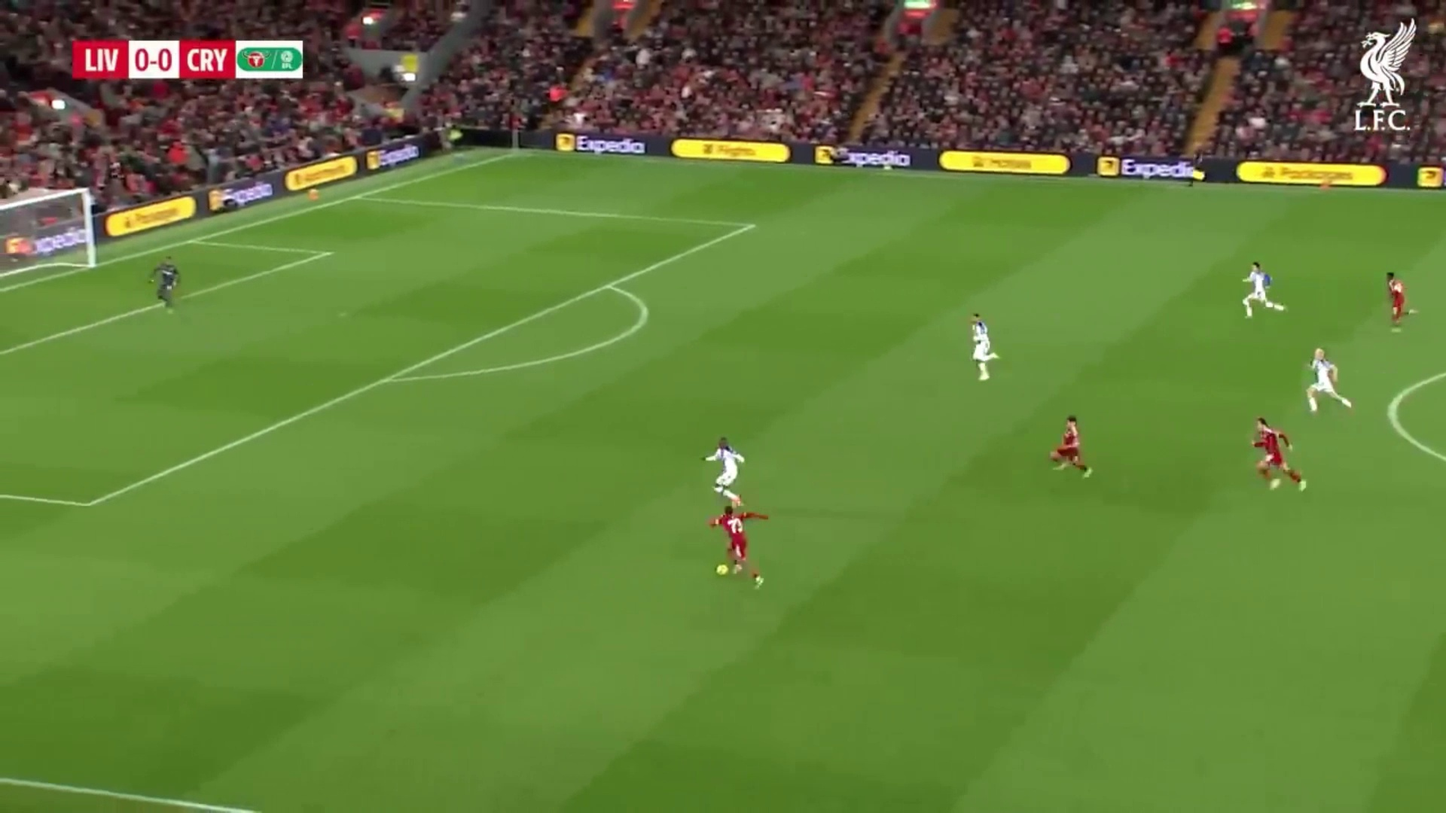player: (709, 492, 762, 581), (1250, 418, 1303, 488), (705, 435, 748, 517), (1305, 346, 1350, 415), (1049, 418, 1089, 478), (1241, 261, 1281, 318), (969, 312, 996, 381), (1386, 272, 1411, 326), (155, 262, 180, 311)
